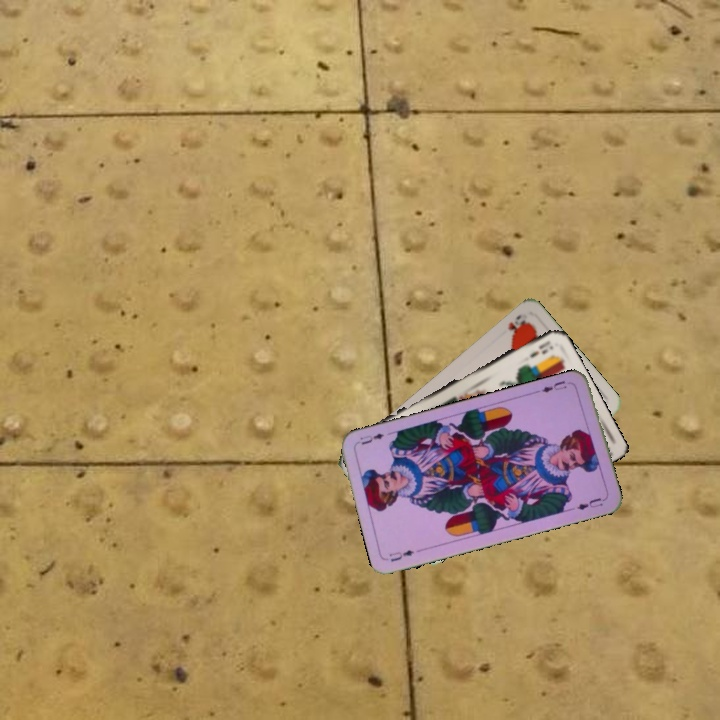EK: (525, 337, 556, 360)
EU: (385, 545, 424, 564), (534, 377, 575, 395)
HO: (503, 310, 531, 338)
